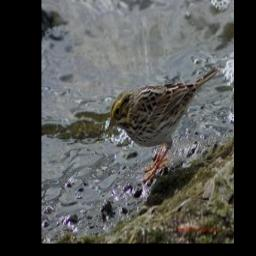Sparrow: (106, 64, 218, 182)
